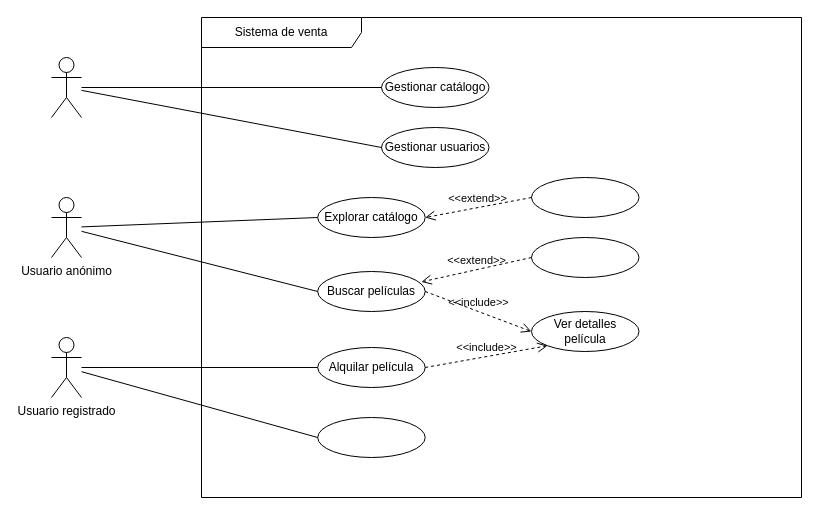
The diagram is 819 pixels wide and 515 high, and some of its shapes have lost their labels. The centre of each missing label's shape, as x and y in pixels:
"Administrador" goes at (66,87).
"Añadir a favoritos" goes at (584,257).
"Filtrar películas" goes at (584,197).
"Ver historial de películas" goes at (371,437).
